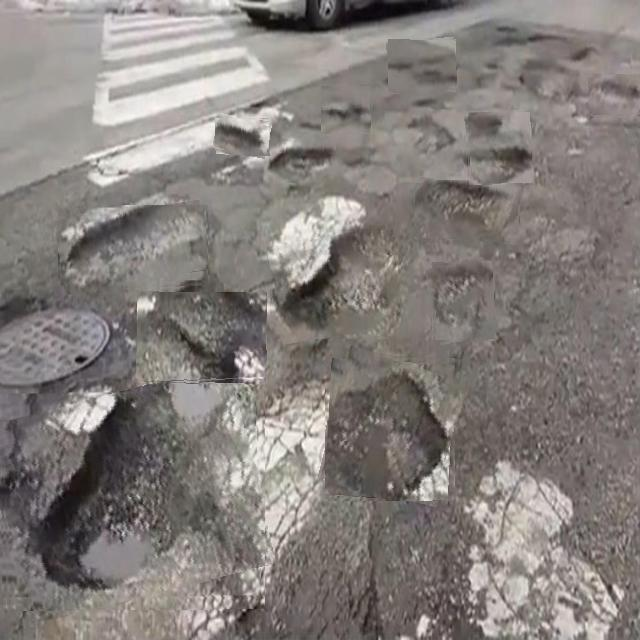Pothole: (0, 379, 265, 611), (325, 352, 462, 501), (270, 230, 401, 339), (57, 205, 208, 291), (136, 293, 267, 387), (414, 180, 522, 242), (429, 260, 495, 342), (466, 110, 532, 185), (387, 38, 457, 93), (408, 109, 463, 171), (274, 139, 336, 183), (322, 86, 372, 134), (586, 74, 640, 118), (214, 116, 270, 156), (569, 35, 599, 69)
